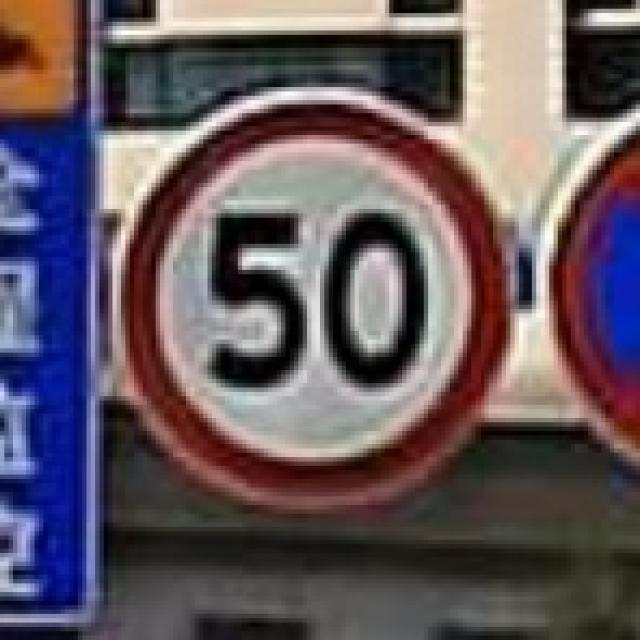Speed Limit -50-: (204, 206, 433, 390)
